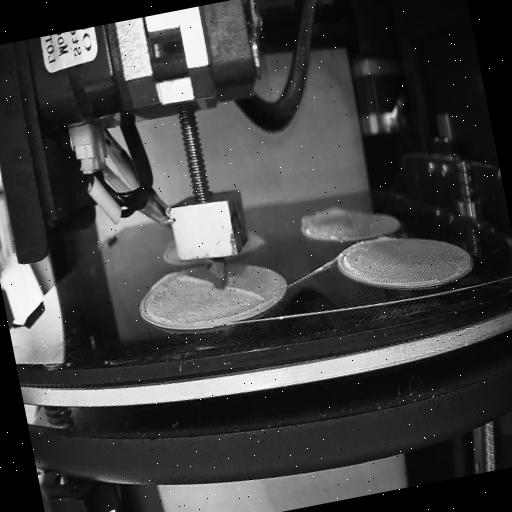over_extrusion: (296, 201, 354, 242), (224, 277, 266, 309), (176, 268, 209, 286), (158, 240, 176, 270), (372, 232, 396, 248)
